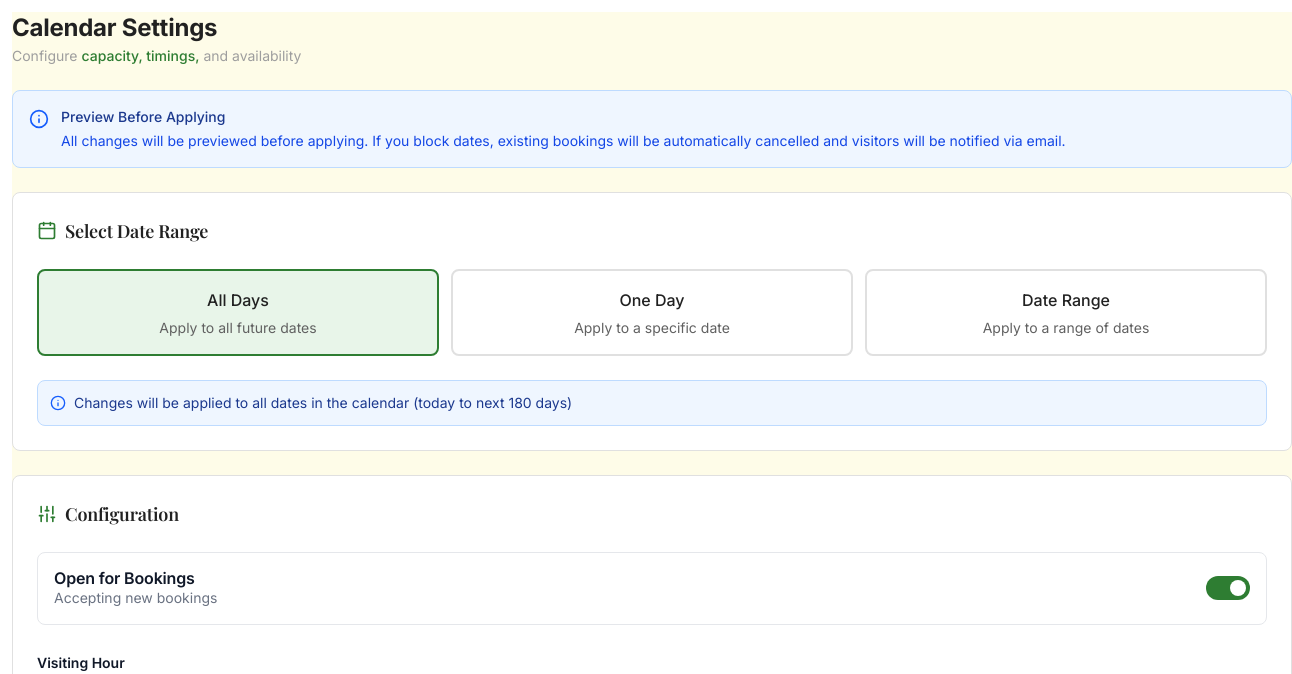
Test: Settings Page UI › switches between apply modes
The width and height of the screenshot is (1292, 674).
Step 1. Click the text "One Day" → x=652, y=300, box x1=619 y1=290 x2=685 y2=310
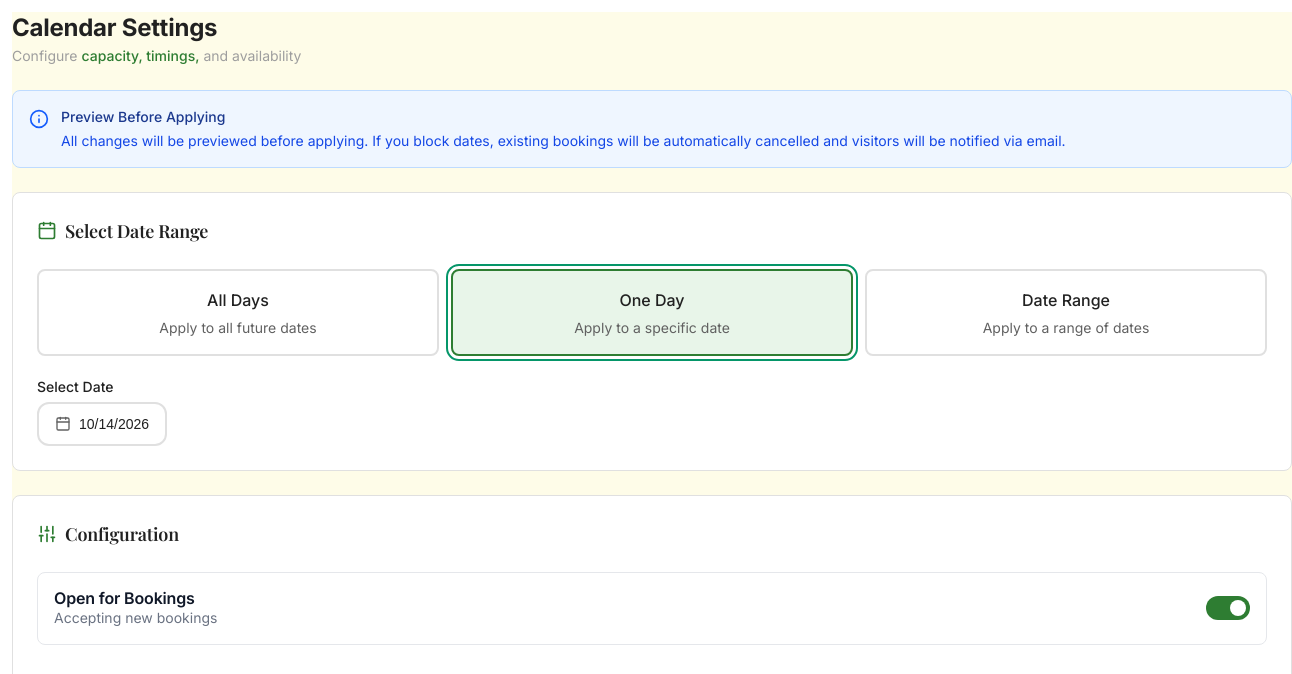
Check: the text "Select Date" is shown, box x1=37 y1=378 x2=114 y2=395
Step 2. Click the text "Date Range" → x=1066, y=300, box x1=1022 y1=290 x2=1110 y2=310
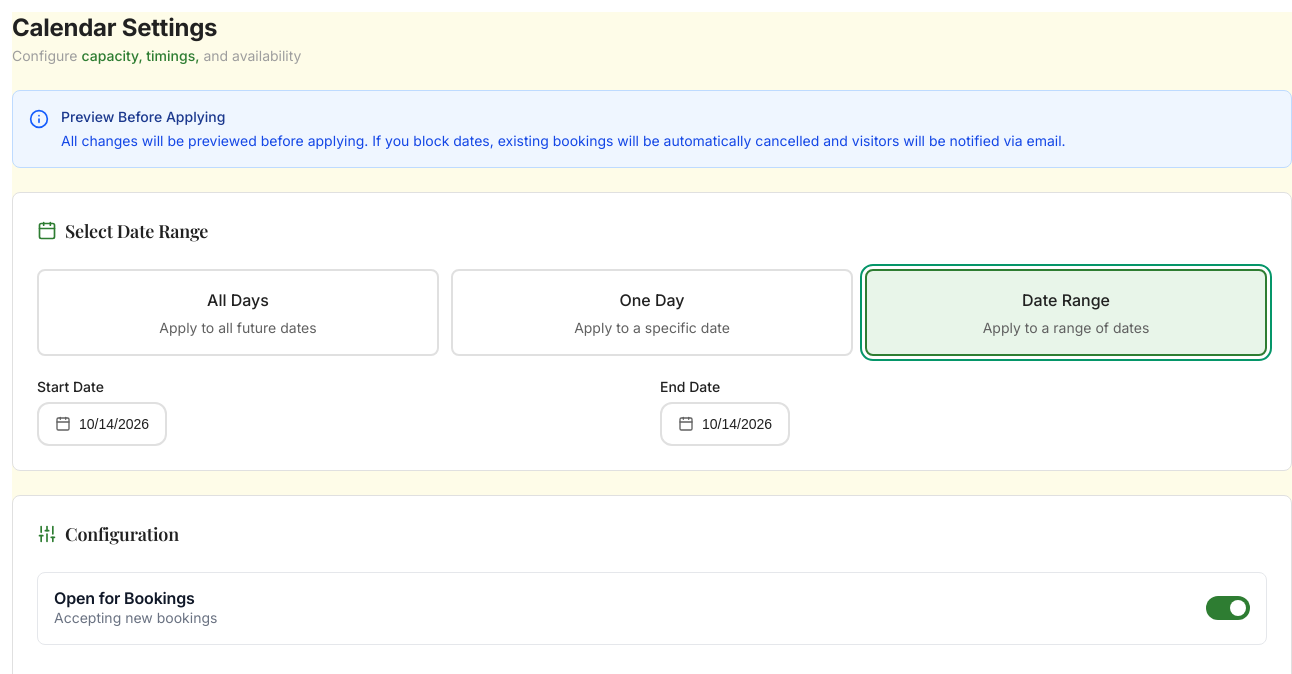
Check: the text "Start Date" is shown, box x1=37 y1=378 x2=104 y2=395
Check: the text "End Date" is shown, box x1=660 y1=378 x2=720 y2=395
